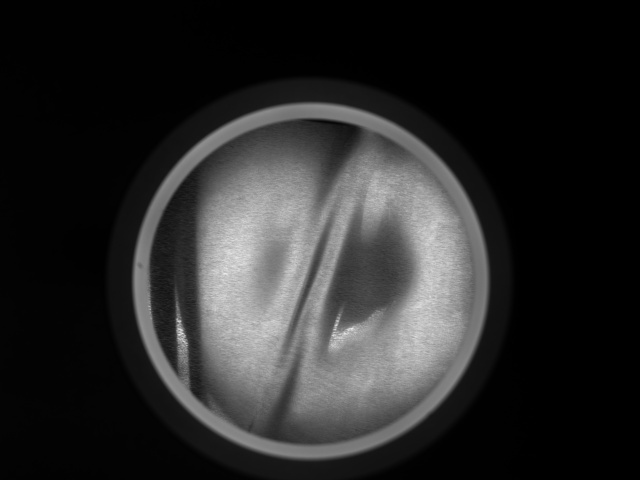zhe_zhou: (187, 149, 430, 409)
